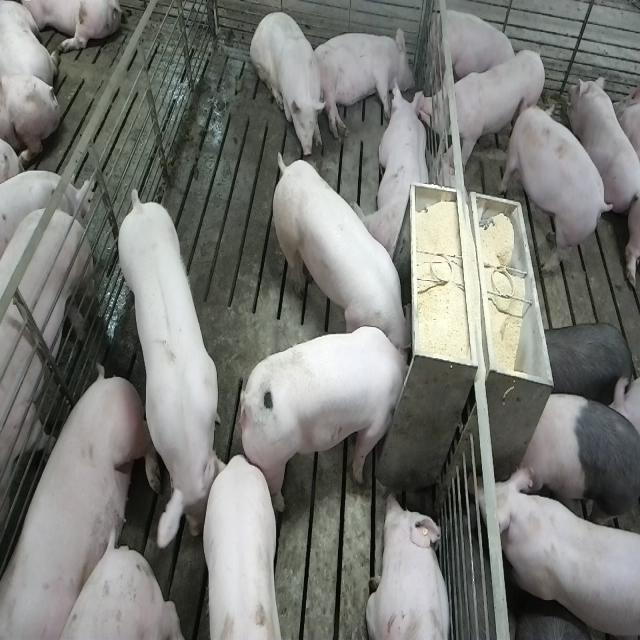Feeding: (244, 326, 419, 512), (267, 143, 411, 358)
Lateral_lying: (310, 24, 415, 140)
Sitting: (250, 8, 325, 159)
Standing: (0, 195, 100, 640), (115, 190, 223, 552), (492, 466, 638, 640), (516, 376, 638, 536), (501, 104, 613, 273), (198, 456, 288, 640), (418, 49, 547, 175)
Sternal_lying: (358, 78, 432, 260), (365, 489, 453, 640), (570, 73, 638, 220), (428, 5, 516, 91)
